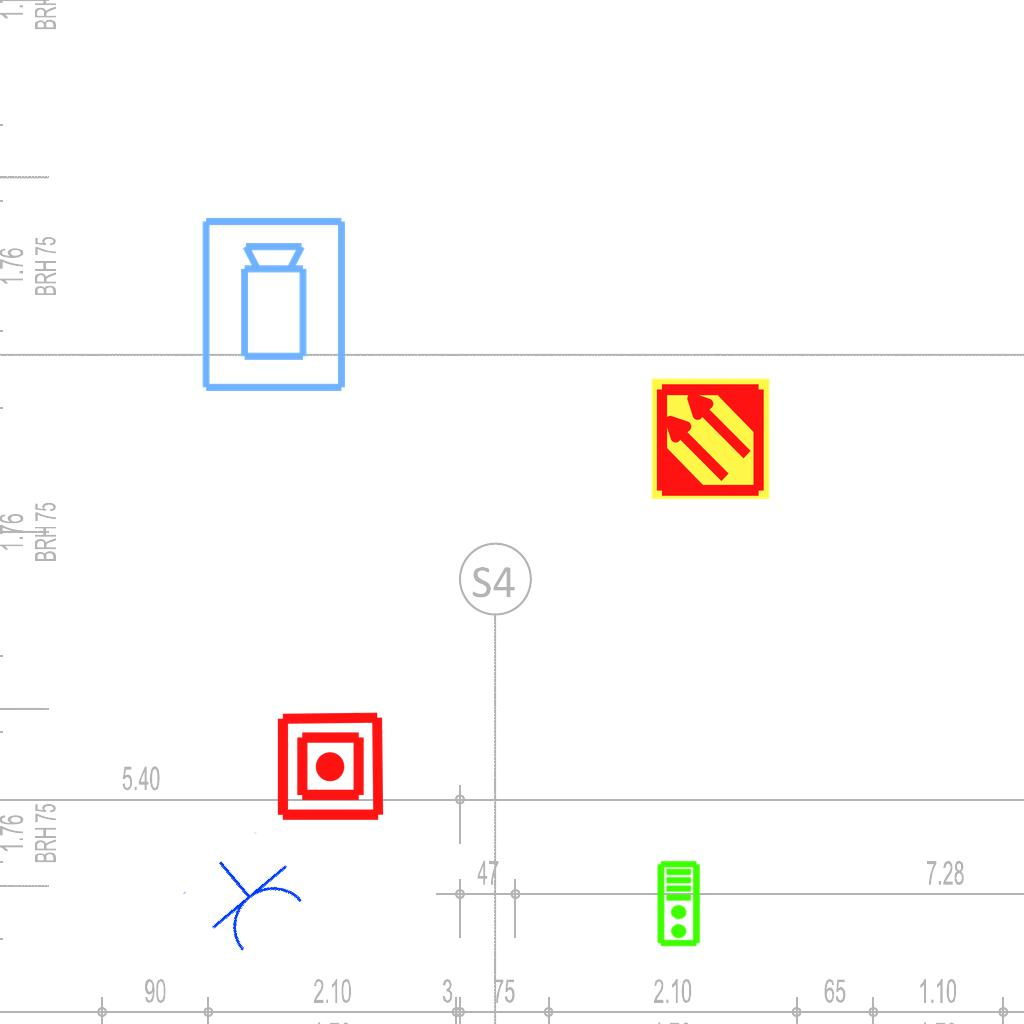ASR_Ansaugrauchmelder: (648, 376, 773, 501)
Gegensprechanlage_mit_Video: (656, 860, 703, 948)
KFO_Kamera_mit_Festobjektiv: (198, 214, 352, 396)
NAM-Nichtautomatischer_Melder: (274, 710, 387, 823)
Schukosteckdose_einfach: (180, 830, 314, 961)
